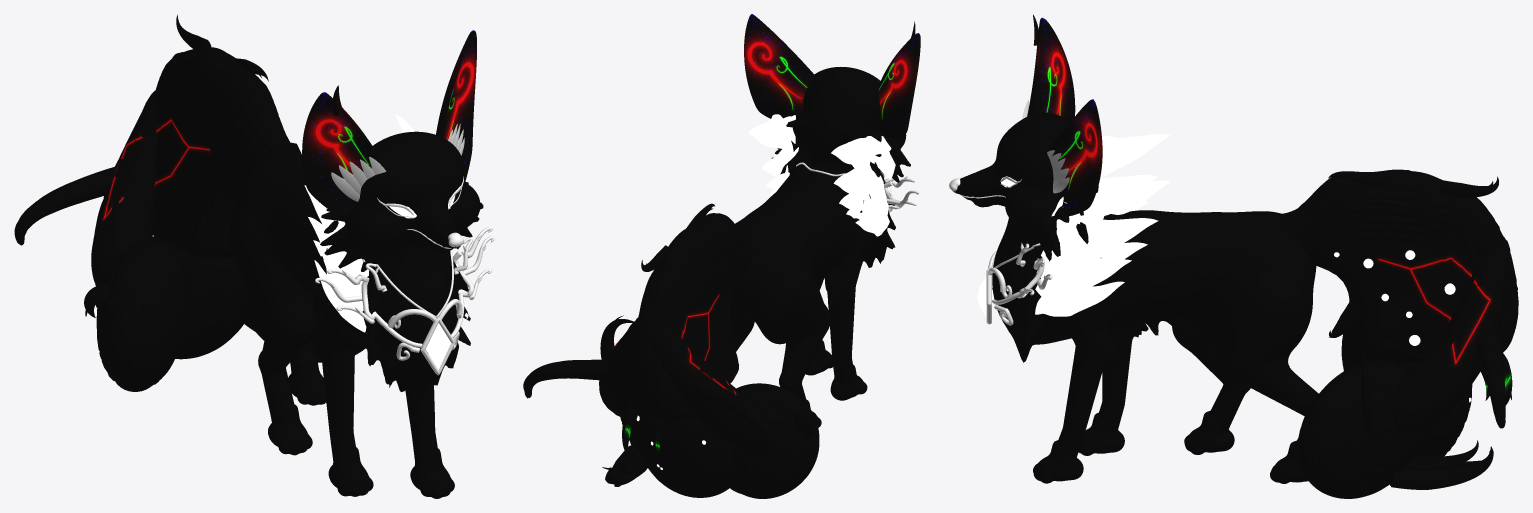
Rendered from lumina_warden.glb.
3 renders of one model, left to right at view 1: azimuth 30°, elevation 25°; view 2: azimuth 150°, elevation 25°; view 3: azimuth 270°, elevation 25°, orthographic. The views are drawn at different scales.
Visible parts, largest first — view 1: lumina_warden; view 2: lumina_warden; view 3: lumina_warden.
Part boxes in pixels (x1,y1,x2,y2): lumina_warden: [14, 14, 494, 498]; lumina_warden: [523, 14, 920, 498]; lumina_warden: [949, 14, 1518, 498].
Bounding box in the file's own units: 0.7287 × 1.01 × 1.26.
14 materials, 5 textured.
